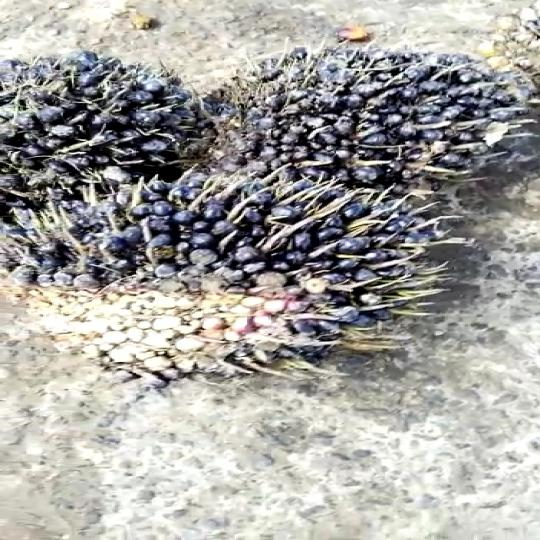mentah: (13, 168, 461, 387), (246, 50, 540, 198), (0, 38, 230, 204)
